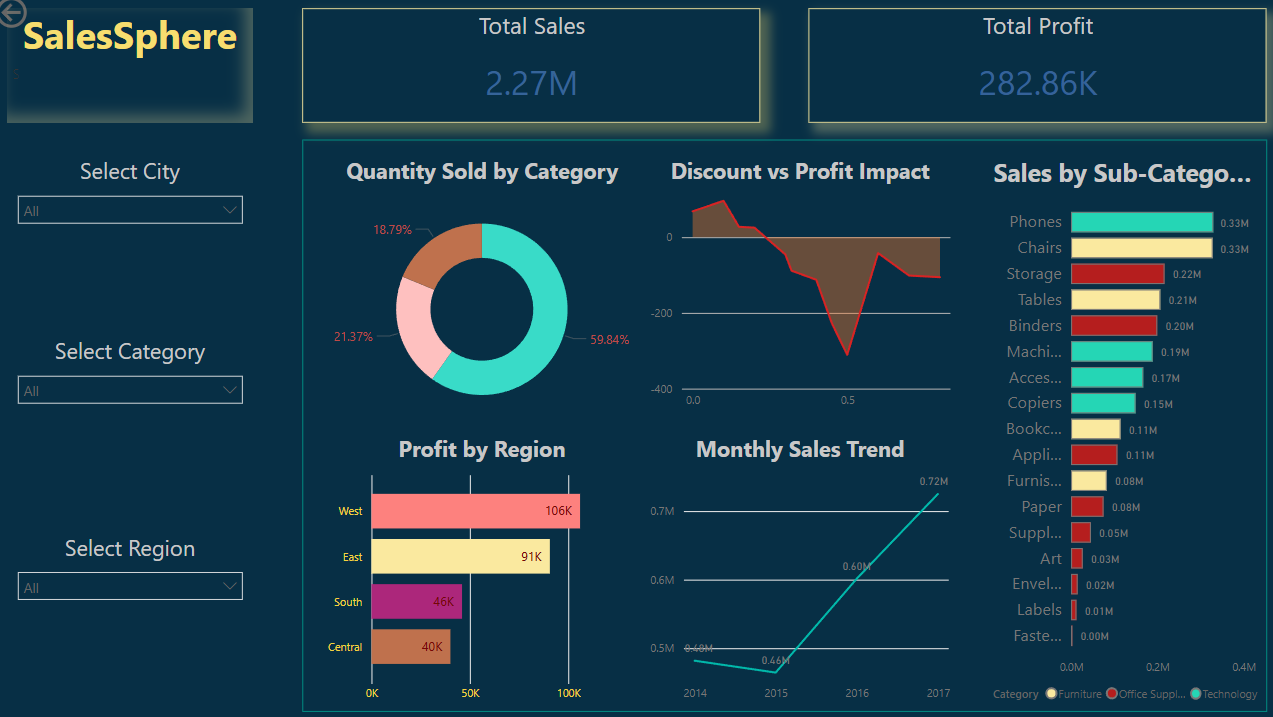

The dashboard page shown, as its layout file describes it:
{"tool":"powerbi","page":{"name":"Page 1","canvas":[1280,720],"ordinal":0},"visuals":[{"type":"card","title":"Total Sales","fields":{"Values":["Sum(monthly_sales.Monthly_Sales)"]},"box":[304,16,448,112],"z":0},{"type":"card","title":"Total Profit","fields":{"Values":["Sum(region_profit.Total_Profit)"]},"box":[800,16,448,112],"z":1000},{"type":"barChart","title":"Sales by Sub-Category\"","fields":{"Series":["category_sales.Category"],"Y":["Sum(category_sales.Total_Sales)"],"Category":["category_sales.Sub-Category"]},"box":[976,160,272,544],"z":2000},{"type":"lineChart","title":"Monthly Sales Trend","fields":{"Category":["monthly_sales.Month.Variation.Date Hierarchy.Year","monthly_sales.Month.Variation.Date Hierarchy.Quarter","monthly_sales.Month.Variation.Date Hierarchy.Month","monthly_sales.Month.Variation.Date Hierarchy.Day"],"Y":["Sum(monthly_sales.Monthly_Sales)"]},"box":[640,432,304,272],"z":3000},{"type":"barChart","title":"Profit by Region","fields":{"Category":["region_profit.Region"],"Y":["Sum(region_profit.Total_Profit)"]},"box":[320,432,320,272],"z":4000},{"type":"donutChart","title":"Quantity Sold by Category","fields":{"Y":["Sum(quantity_by_category.Total_Quantity)"],"Category":["quantity_by_category.Category"]},"box":[320,160,320,272],"z":5000},{"type":"lineChart","title":"Discount vs Profit Impact","fields":{"Category":["discount_profit.Discount"],"Y":["Sum(discount_profit.Avg_Profit)"]},"box":[640,160,304,256],"z":6000},{"type":"actionButton","box":[0,0,100,40],"z":7000},{"type":"slicer","title":"Select Category","fields":{"Values":["category_sales.Category"]},"box":[16,336,240,128],"z":8000},{"type":"slicer","title":"Select Region","fields":{"Values":["region_profit.Region"]},"box":[16,528,240,128],"z":9000},{"type":"slicer","title":"Select City","fields":{"Values":["top_cities.City"]},"box":[16,160,240,128],"z":10000},{"type":"shape","box":[304,144,944,560],"z":11000},{"type":"textbox","title":"SalesSphere","box":[16,16,240,112],"z":12000}]}

Visuals, with their boxes in screenshot pixels (x1, y1, x2, y2), scaled from the page's 1280x720 canvas onto the 1273x717 screenshot:
"Total Sales" card: [x1=302, y1=16, x2=748, y2=127]
"Total Profit" card: [x1=796, y1=16, x2=1241, y2=127]
"Sales by Sub-Category"" barChart: [x1=971, y1=159, x2=1241, y2=701]
"Monthly Sales Trend" lineChart: [x1=636, y1=430, x2=939, y2=701]
"Profit by Region" barChart: [x1=318, y1=430, x2=636, y2=701]
"Quantity Sold by Category" donutChart: [x1=318, y1=159, x2=636, y2=430]
"Discount vs Profit Impact" lineChart: [x1=636, y1=159, x2=939, y2=414]
actionButton: [x1=0, y1=0, x2=99, y2=40]
"Select Category" slicer: [x1=16, y1=335, x2=255, y2=462]
"Select Region" slicer: [x1=16, y1=526, x2=255, y2=653]
"Select City" slicer: [x1=16, y1=159, x2=255, y2=287]
shape: [x1=302, y1=143, x2=1241, y2=701]
"SalesSphere" textbox: [x1=16, y1=16, x2=255, y2=127]
